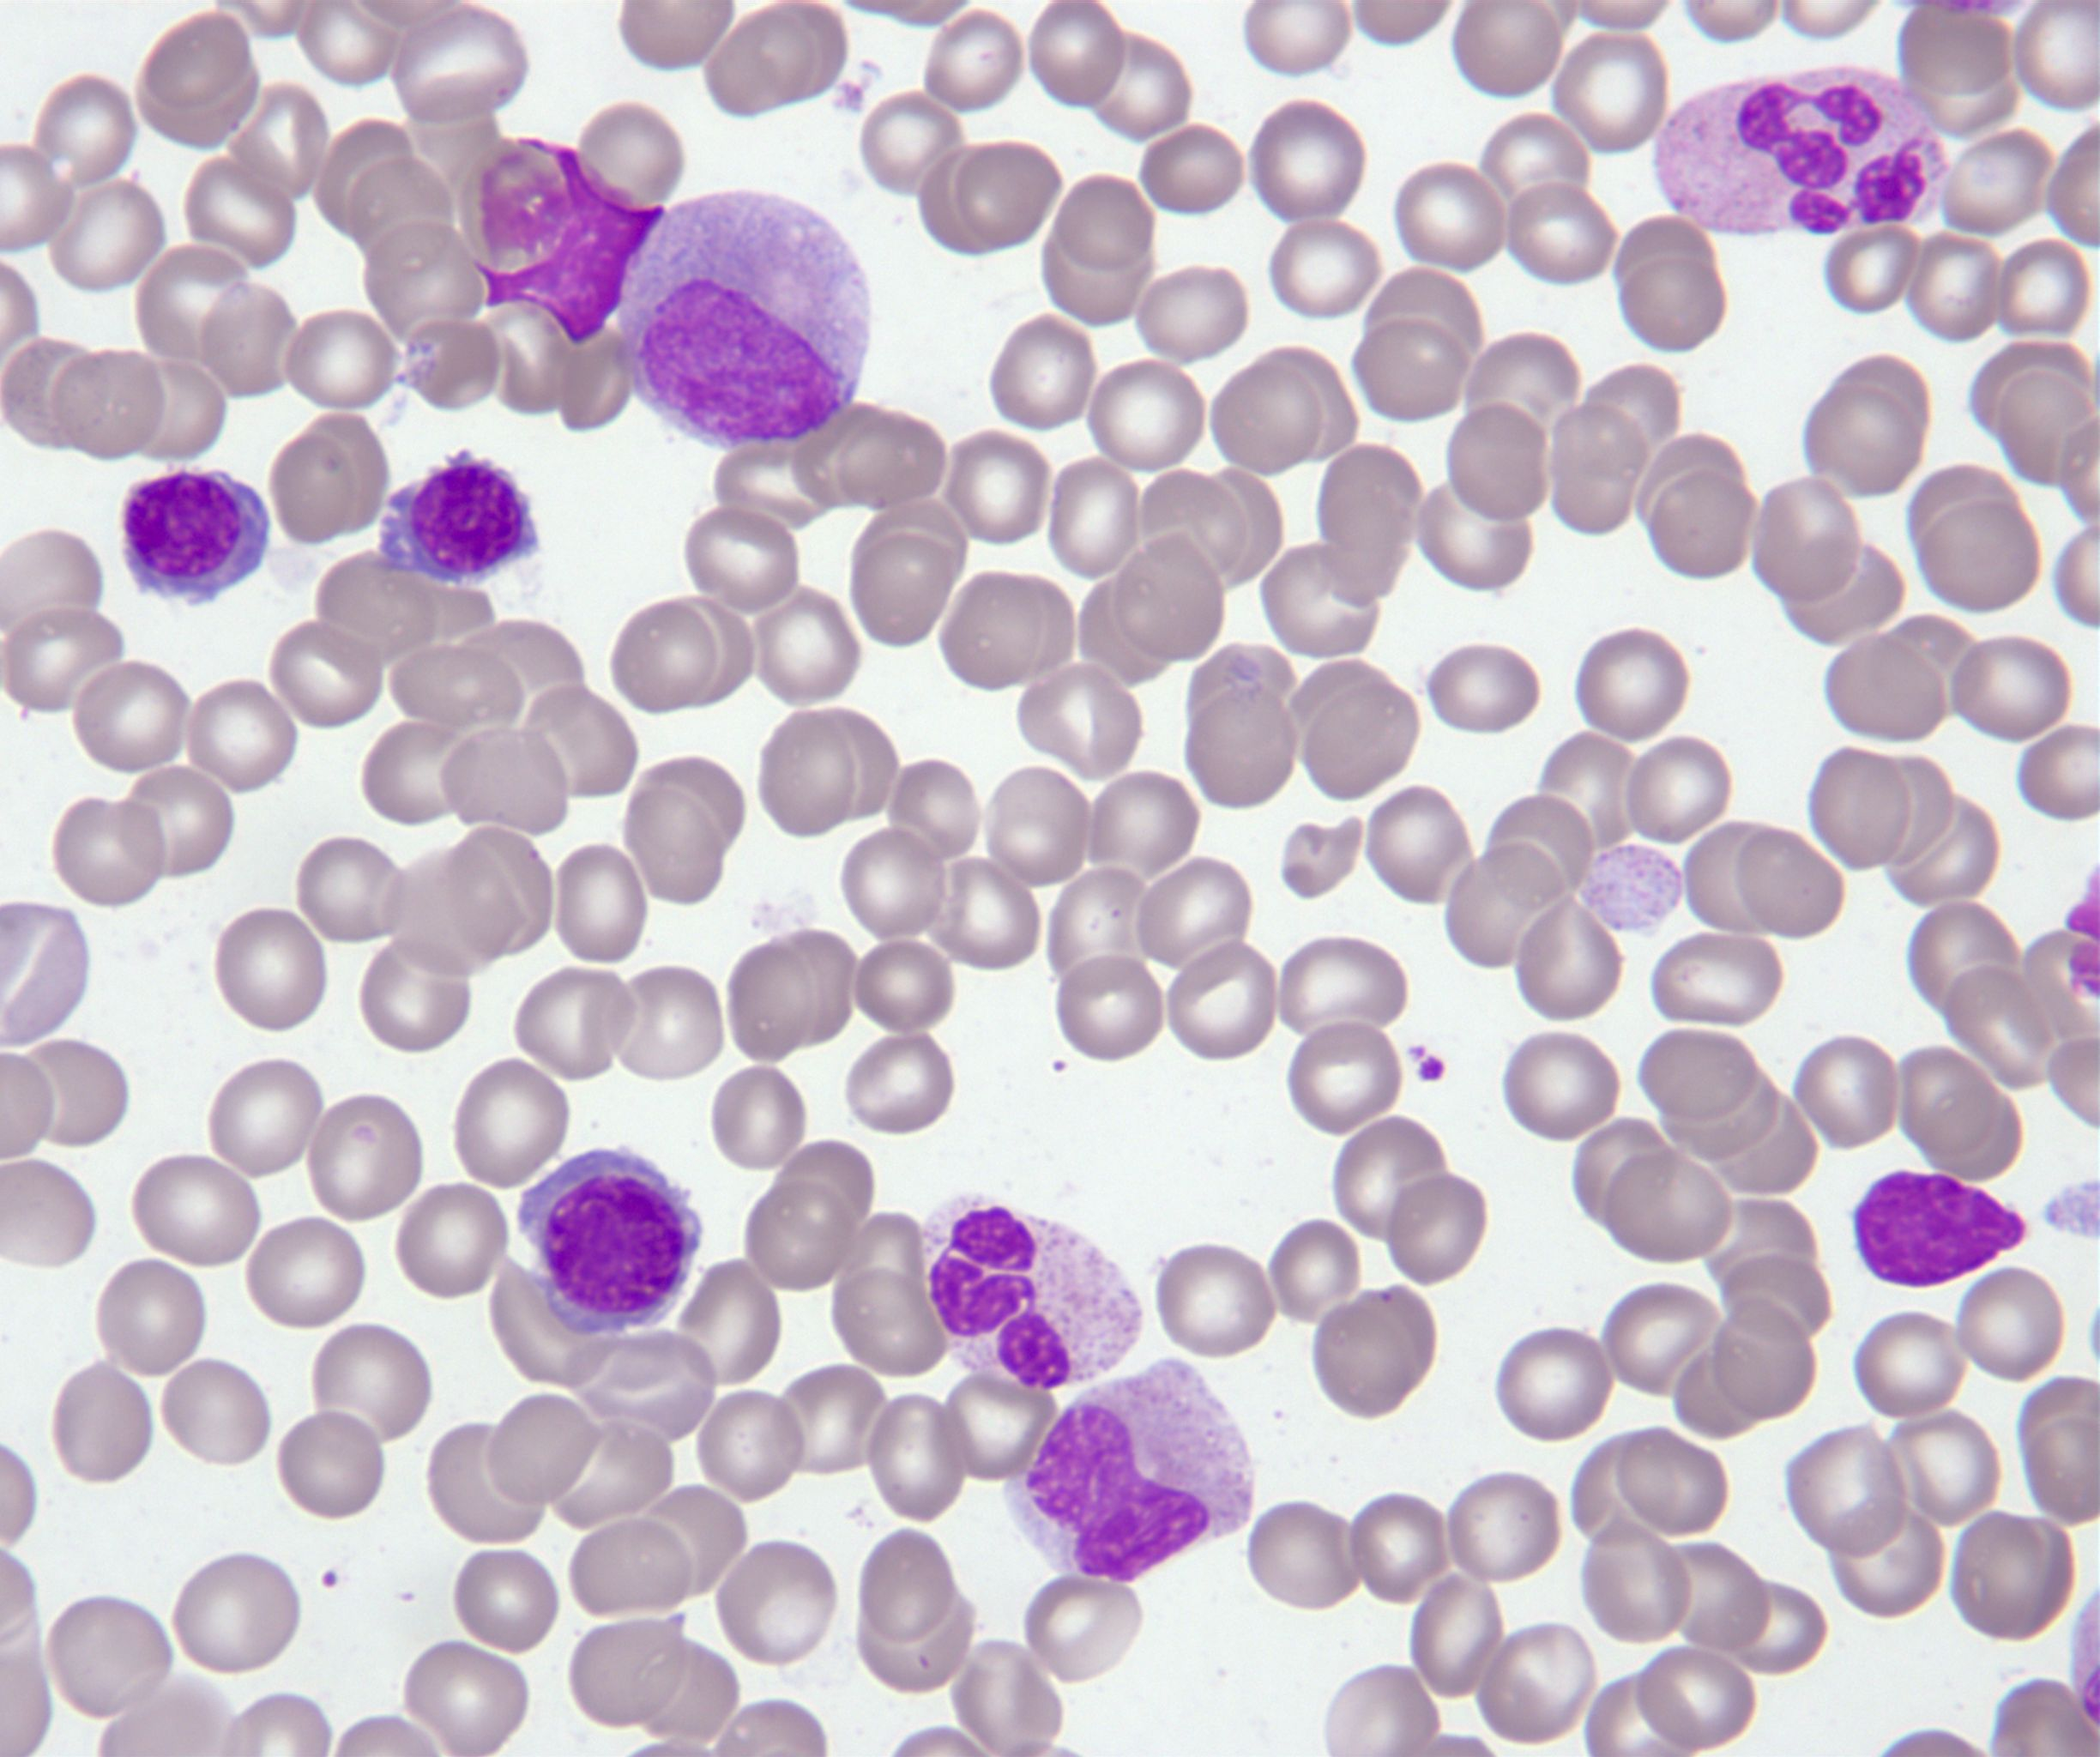23: (511, 1141, 703, 1340)
24: (375, 441, 541, 588), (115, 466, 276, 609)
3: (612, 183, 879, 455)
4: (998, 1354, 1258, 1591)
6: (1650, 63, 1953, 239), (916, 1193, 1148, 1398)
x: (1849, 1162, 2034, 1295)
